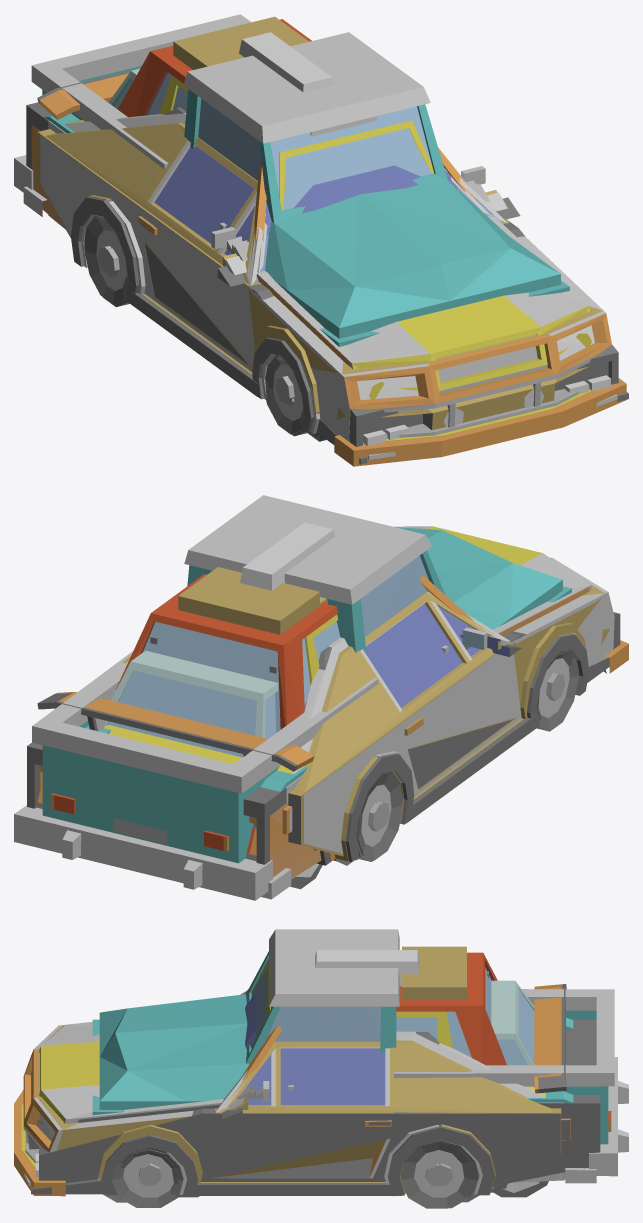
Rendered from cars.glb.
The picture shows the model from 3 angles, top to bottom: view 1: azimuth 30°, elevation 25°; view 2: azimuth 150°, elevation 25°; view 3: azimuth 270°, elevation 25°; orthographic projection. The views are drawn at different scales.
Visible parts, largest first — view 1: car_02, car_07, car_08, car_10, car_05, car_09, car_11, car_01, car_00, car_06; view 2: car_02, car_08, car_07, car_01, car_05, car_00, car_10, car_11, car_09, car_06; view 3: car_02, car_05, car_08, car_07, car_10, car_01, car_06, car_00, car_11, car_09.
Boxes of the visible parts, <box> form: car_02: <box>14,14,569,346</box>; car_07: <box>39,73,626,466</box>; car_08: <box>37,122,602,434</box>; car_10: <box>48,113,591,443</box>; car_05: <box>37,68,628,464</box>; car_09: <box>23,125,479,435</box>; car_11: <box>159,32,434,210</box>; car_01: <box>108,16,308,109</box>; car_00: <box>117,19,311,229</box>; car_06: <box>26,102,475,436</box>; car_02: <box>14,495,571,900</box>; car_08: <box>123,581,609,861</box>; car_07: <box>55,557,628,860</box>; car_01: <box>105,567,326,757</box>; car_05: <box>37,612,620,861</box>; car_00: <box>116,574,448,732</box>; car_10: <box>104,526,591,879</box>; car_11: <box>240,522,338,685</box>; car_09: <box>40,574,589,899</box>; car_06: <box>27,635,462,865</box>; car_02: <box>92,929,628,1197</box>; car_05: <box>31,984,569,1208</box>; car_08: <box>27,1025,570,1207</box>; car_07: <box>14,984,565,1208</box>; car_10: <box>21,1022,564,1202</box>; car_01: <box>402,946,534,1065</box>; car_06: <box>78,1020,600,1202</box>; car_00: <box>288,952,506,1091</box>; car_11: <box>251,950,452,1048</box>; car_09: <box>242,989,596,1194</box>.
Size of the model in its own units: 1.6 by 1.29 by 3.58.
